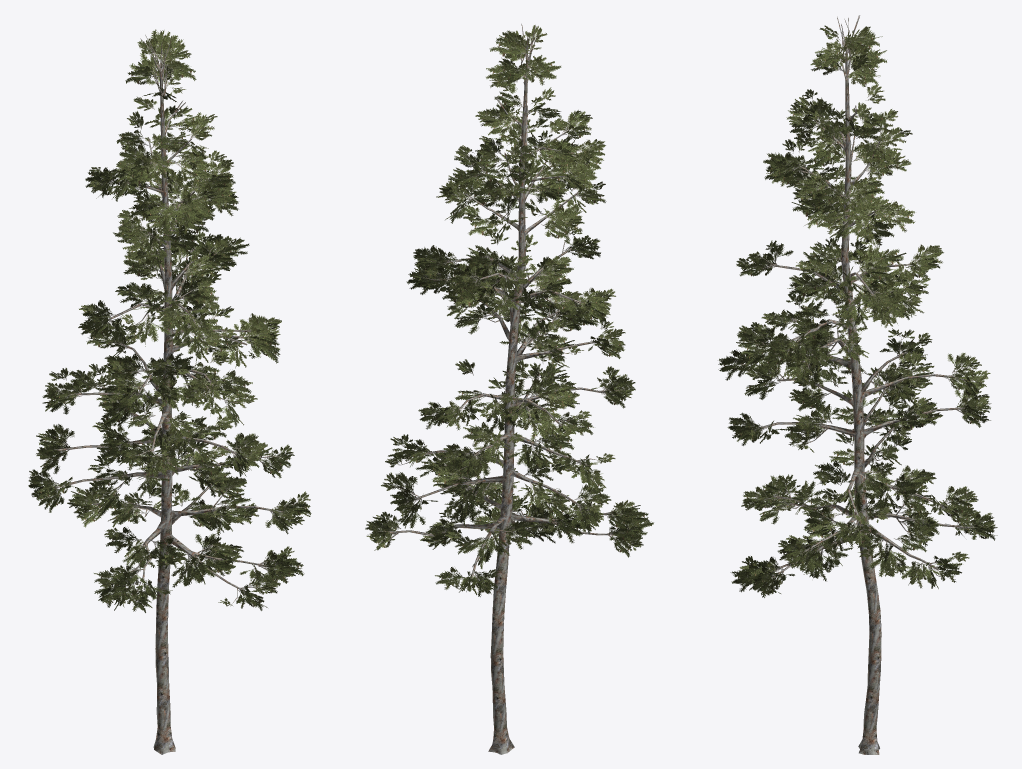
The model's file is Conifer_Low_02.fbx.
3 views of the same model, side by side, from view 1: azimuth 30°, elevation 25°; view 2: azimuth 150°, elevation 25°; view 3: azimuth 270°, elevation 25° (orthographic).
Visible parts, largest first — view 1: Conifer_Low_02; view 2: Conifer_Low_02; view 3: Conifer_Low_02.
Boxes of the visible parts, box(x1,y1,x2,y2) form: Conifer_Low_02: box(28, 29, 311, 754); Conifer_Low_02: box(365, 24, 653, 754); Conifer_Low_02: box(718, 15, 997, 754).
Size of the model in its own units: 24.31 by 24.91 by 65.29.
Materials: 3 (3 with a texture image).
